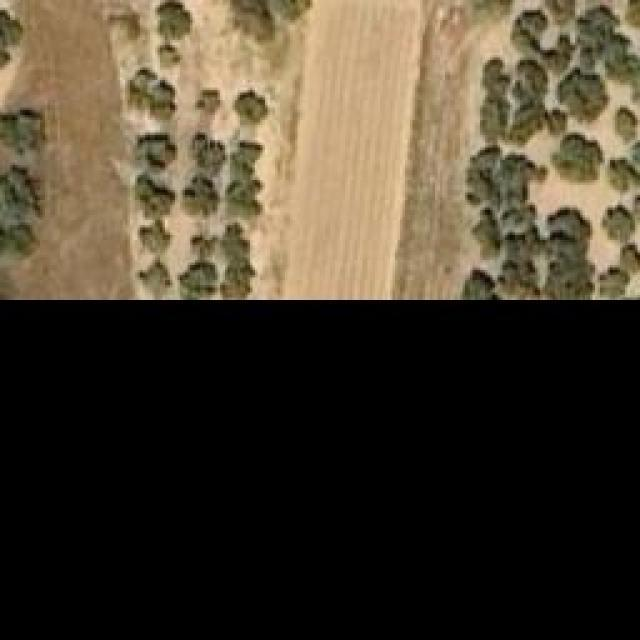Tree: (128, 68, 178, 121), (558, 75, 608, 120), (550, 135, 598, 180), (0, 170, 38, 225), (0, 110, 45, 155), (235, 0, 270, 42), (193, 133, 226, 176), (178, 260, 218, 295), (138, 258, 173, 298), (0, 10, 25, 65), (228, 177, 263, 215), (460, 265, 495, 303), (135, 175, 165, 218), (158, 3, 188, 43), (135, 220, 175, 250), (235, 88, 268, 123), (138, 138, 171, 171), (232, 140, 260, 178), (597, 262, 625, 300), (607, 152, 635, 190), (183, 180, 213, 213), (533, 250, 556, 290), (190, 232, 218, 260), (605, 208, 630, 238), (613, 110, 638, 138), (195, 90, 220, 115), (625, 0, 640, 30)
